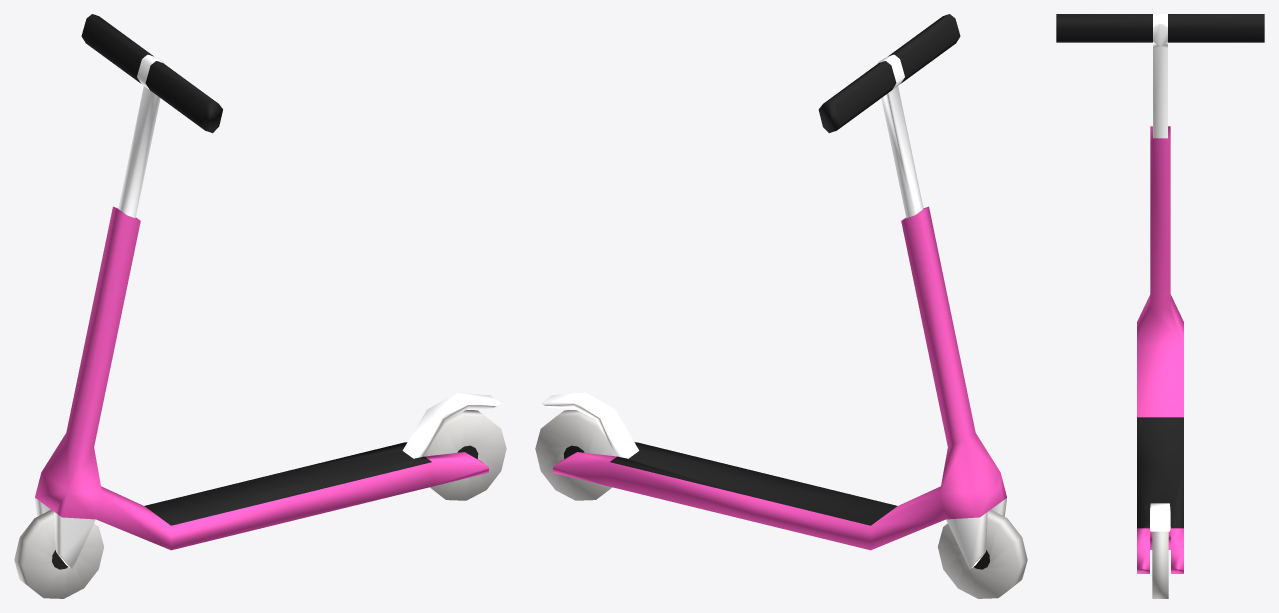
Rendered from ScooterPink.glb.
3 views of the same model, side by side, from view 1: azimuth 30°, elevation 25°; view 2: azimuth 150°, elevation 25°; view 3: azimuth 270°, elevation 25° (orthographic). The views are drawn at different scales.
Parts seen in each view (by area): view 1: ScooterPink; view 2: ScooterPink; view 3: ScooterPink.
Boxes of the visible parts, bbox=[...] form: ScooterPink: bbox=[14, 14, 506, 598]; ScooterPink: bbox=[535, 14, 1027, 598]; ScooterPink: bbox=[1056, 14, 1264, 598].
Size of the model in its own units: 1.03 by 1.05 by 0.4408.
Materials: 2 (2 with a texture image).
